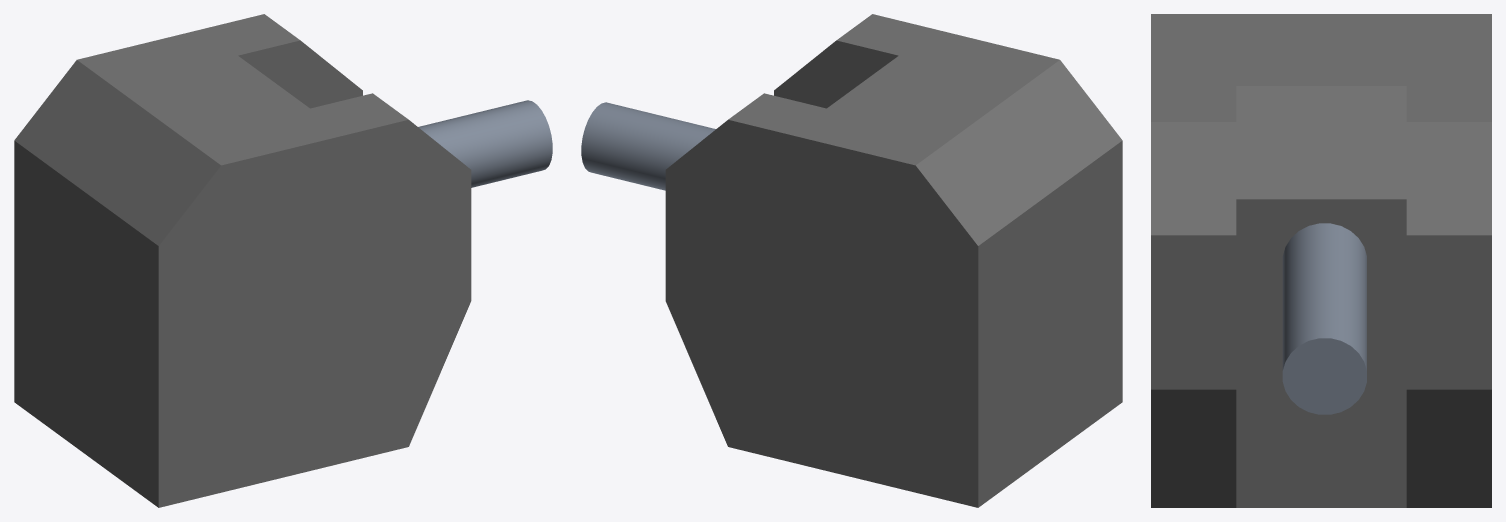
Rendered from tourelle1.obj.
3 renders of one model, left to right at view 1: azimuth 30°, elevation 25°; view 2: azimuth 150°, elevation 25°; view 3: azimuth 270°, elevation 25°, orthographic. The views are drawn at different scales.
Visible parts, largest first — view 1: s.0009, s.0011, s.0014, s.0010; view 2: s.0009, s.0010, s.0014, s.0011; view 3: s.0009, s.0010, s.0011, s.0014.
Part boxes in pixels (<box>): s.0009: <box>14,29,408,507</box>; s.0011: <box>310,93,471,446</box>; s.0014: <box>418,100,552,187</box>; s.0010: <box>202,14,362,108</box>; s.0009: <box>728,29,1122,507</box>; s.0010: <box>665,93,826,445</box>; s.0014: <box>581,102,715,190</box>; s.0011: <box>774,14,934,108</box>; s.0009: <box>1151,14,1491,507</box>; s.0010: <box>1406,86,1491,507</box>; s.0011: <box>1151,86,1236,507</box>; s.0014: <box>1282,223,1366,414</box>.
Bounding box in the file's own units: 1.44 × 1 × 0.8.
